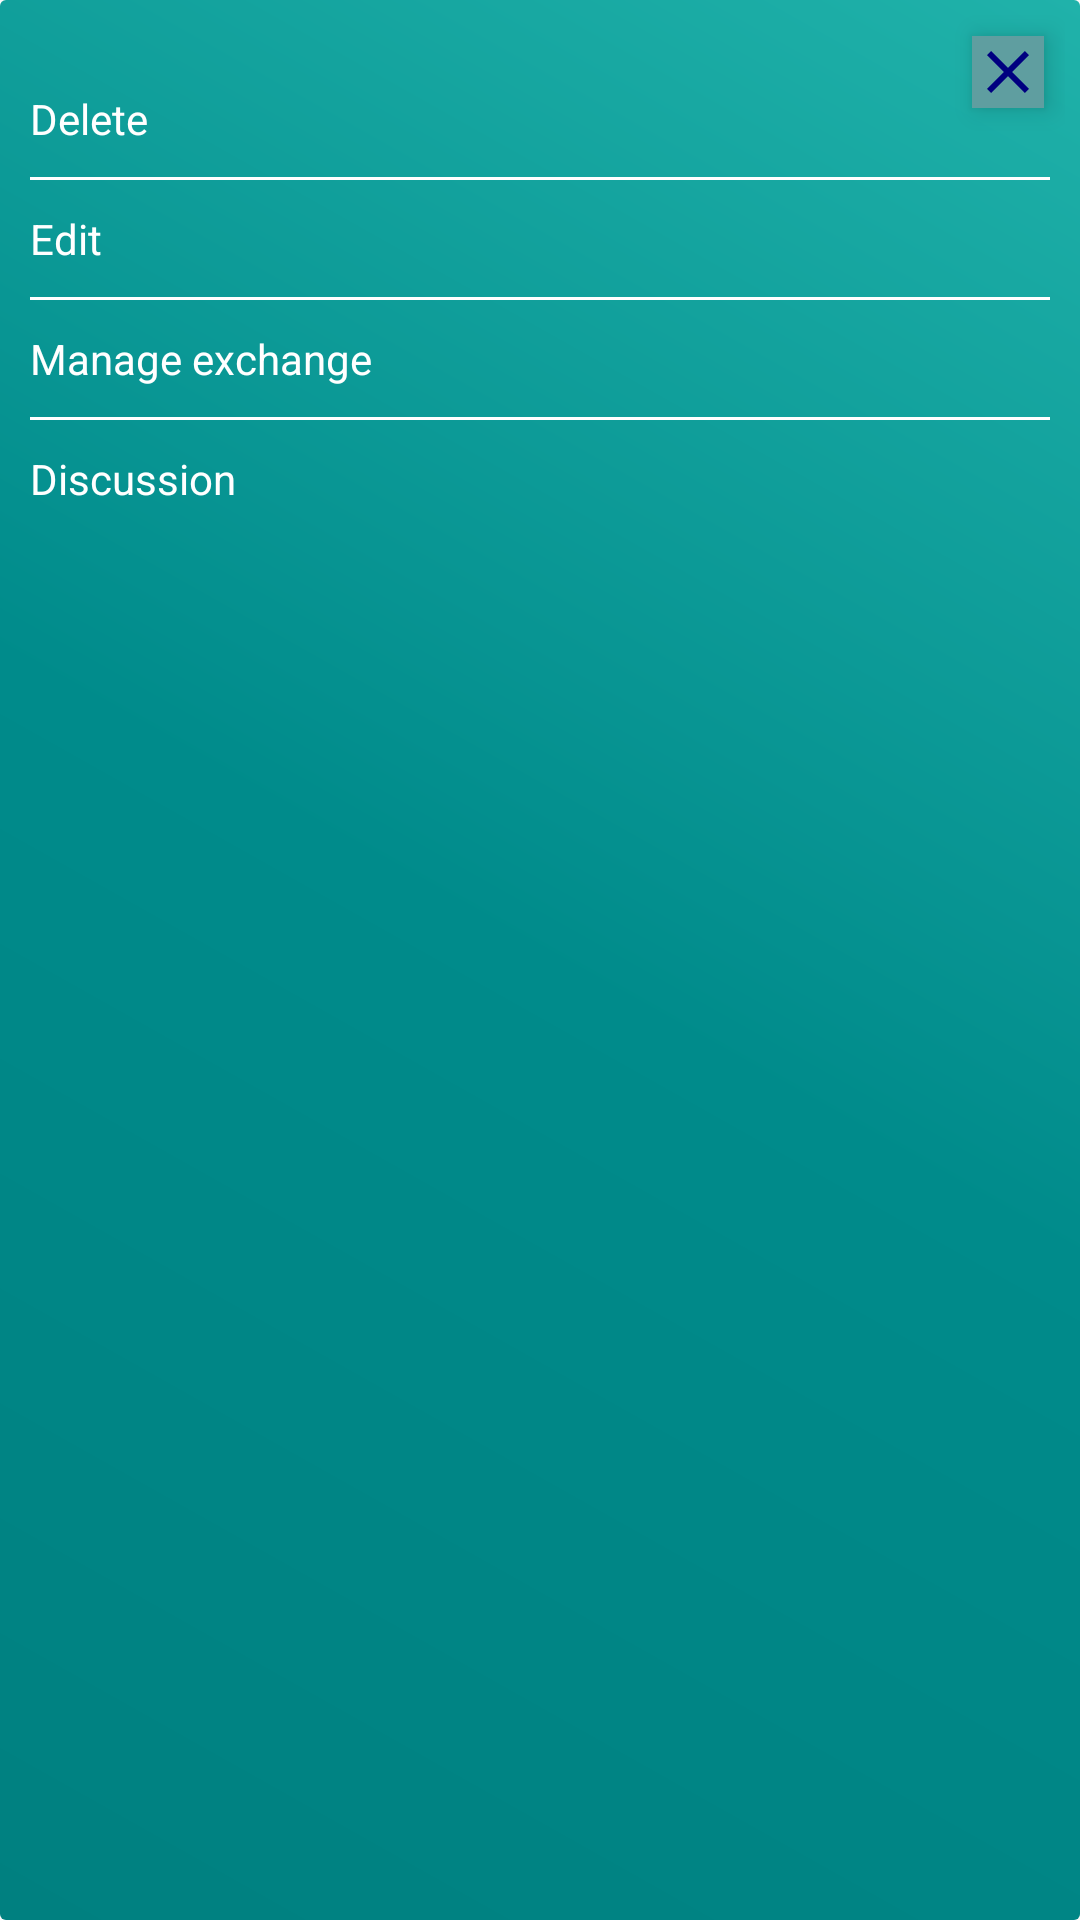

Where to tap for icons on this 1080×1920 app screen, as point (x, y):
close: point (1008, 72)
